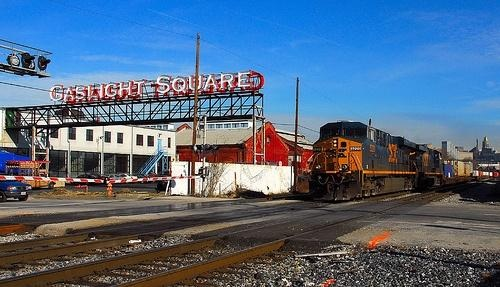car: (1, 181, 33, 204)
train: (295, 121, 500, 204)
